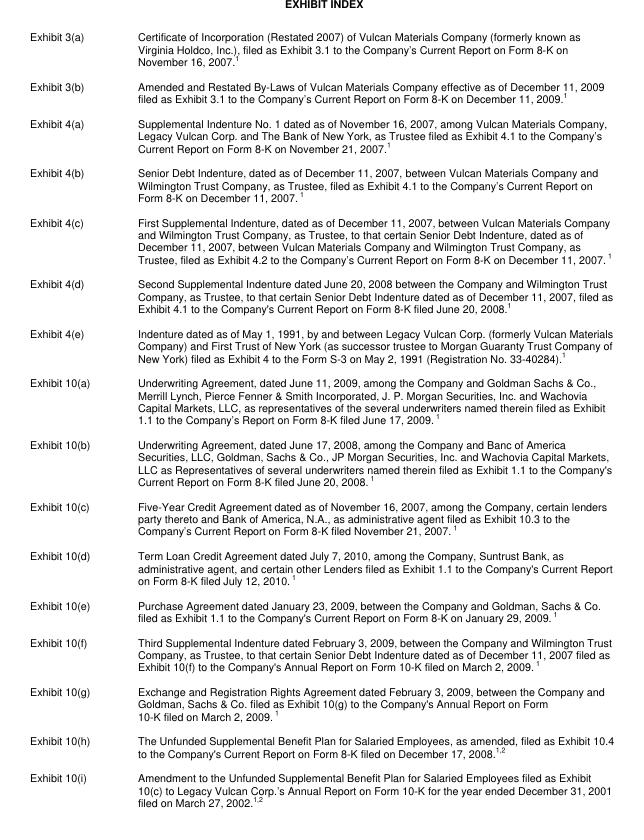table: (29, 28, 613, 809)
table column: (113, 28, 613, 809), (29, 28, 113, 809)
table row: (29, 369, 613, 431), (29, 431, 613, 493), (29, 209, 613, 270), (29, 159, 613, 209), (29, 270, 613, 320), (29, 542, 613, 592), (29, 110, 613, 159), (29, 320, 613, 369), (29, 493, 613, 542), (29, 629, 613, 678), (29, 678, 613, 727), (29, 28, 613, 73), (29, 764, 613, 809), (29, 73, 613, 110), (29, 592, 613, 629), (29, 727, 613, 764)
